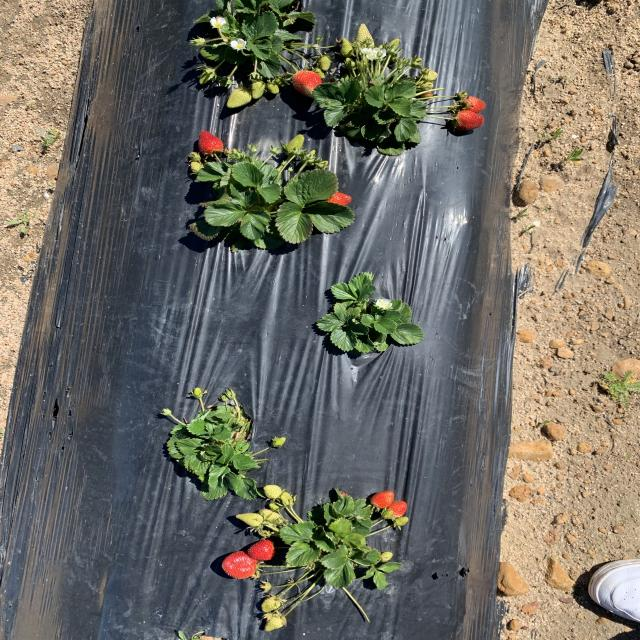unripe: (221, 550, 259, 581), (292, 69, 327, 98), (193, 130, 229, 157), (244, 539, 277, 564), (317, 188, 352, 211), (453, 113, 484, 133), (370, 489, 395, 508), (460, 97, 488, 113), (387, 500, 408, 520)
